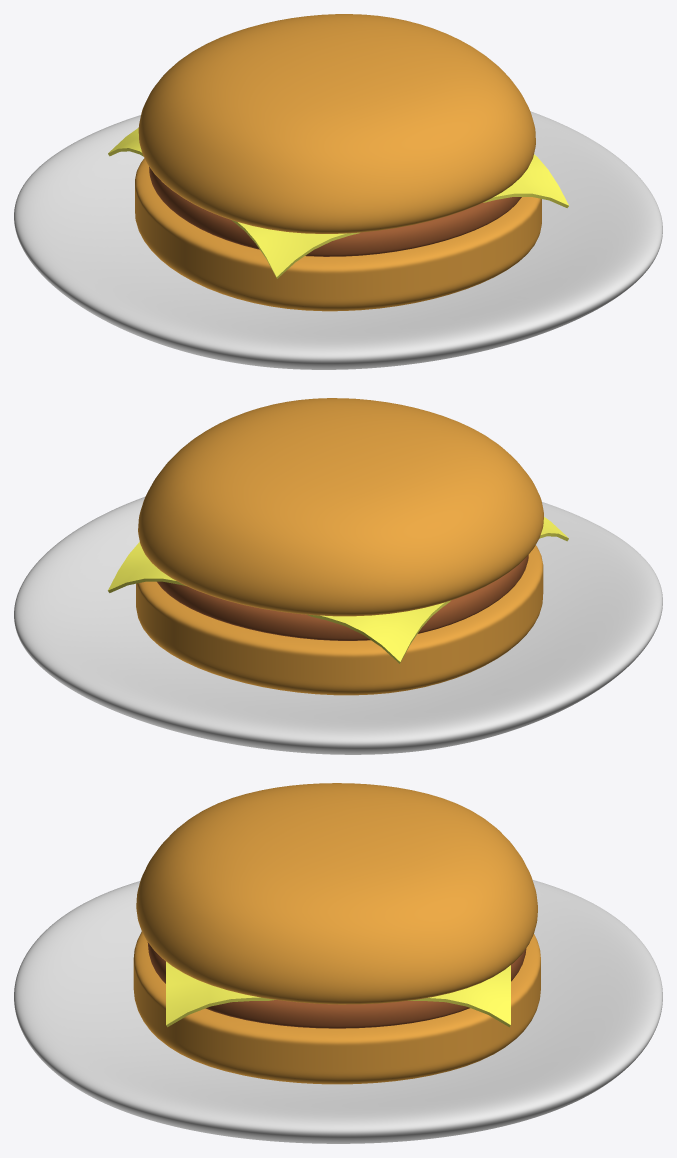
Rendered from hamburger.glb.
The picture shows the model from 3 angles, top to bottom: view 1: azimuth 30°, elevation 25°; view 2: azimuth 150°, elevation 25°; view 3: azimuth 270°, elevation 25°; orthographic projection. The views are drawn at different scales.
Visible parts, largest first — view 1: topBun, Cube, bottomBun, meat, cheese; view 2: topBun, Cube, bottomBun, meat, cheese; view 3: topBun, Cube, bottomBun, meat, cheese.
Boxes of the visible parts, box(x1,y1,x2,y2) form: topBun: box(138, 14, 535, 233); Cube: box(14, 111, 662, 369); bottomBun: box(135, 158, 541, 311); meat: box(149, 167, 521, 256); cheese: box(108, 128, 568, 278); topBun: box(138, 398, 543, 616); Cube: box(14, 497, 662, 754); bottomBun: box(136, 545, 543, 695); meat: box(157, 555, 528, 640); cheese: box(108, 517, 568, 663); topBun: box(136, 783, 537, 1004); Cube: box(14, 880, 662, 1143); bottomBun: box(133, 931, 540, 1084); meat: box(147, 942, 526, 1028); cheese: box(166, 961, 510, 1027).
Bounding box in the file's own units: 14.49 × 5.43 × 14.49.
